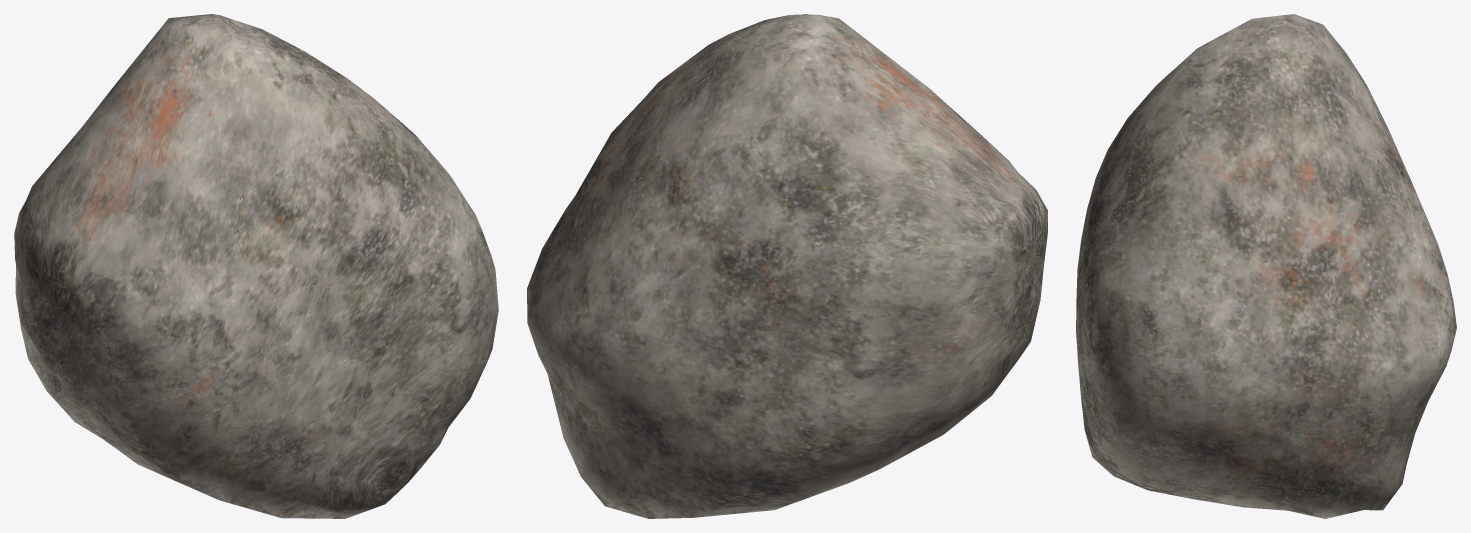
Rendered from rock4.FBX.
3 renders of one model, left to right at view 1: azimuth 30°, elevation 25°; view 2: azimuth 150°, elevation 25°; view 3: azimuth 270°, elevation 25°, orthographic. The views are drawn at different scales.
Visible parts, largest first — view 1: rock4; view 2: rock4; view 3: rock4.
Boxes of the visible parts, left/top/right/bottom form: rock4: left=14, top=14, right=498, bottom=518; rock4: left=527, top=14, right=1047, bottom=518; rock4: left=1076, top=14, right=1456, bottom=518.
Bounding box in the file's own units: 86.95 × 89.95 × 70.52.
